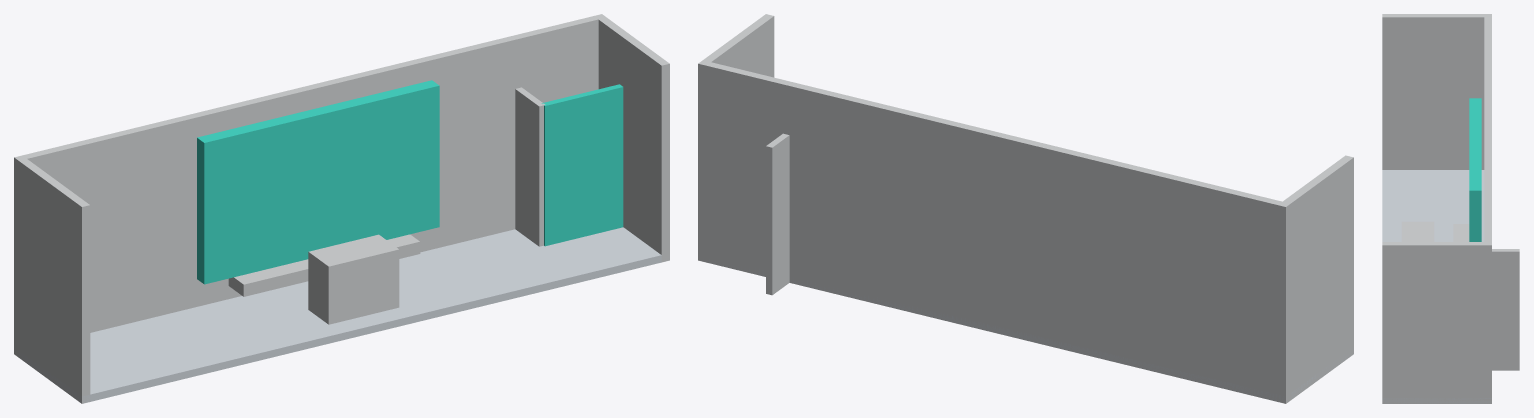
The picture shows the model from 3 angles, left to right: view 1: azimuth 30°, elevation 25°; view 2: azimuth 150°, elevation 25°; view 3: azimuth 270°, elevation 25°; orthographic projection. The views are drawn at different scales.
Parts seen in each view (by area): view 1: Exhibition Booth Concept; view 2: Exhibition Booth Concept; view 3: Exhibition Booth Concept.
Part boxes in pixels (<box>): Exhibition Booth Concept: <box>14,14,669,403</box>; Exhibition Booth Concept: <box>698,14,1353,403</box>; Exhibition Booth Concept: <box>1382,14,1519,403</box>.
Bounding box in the file's own units: 10 × 3.2 × 2.5.
